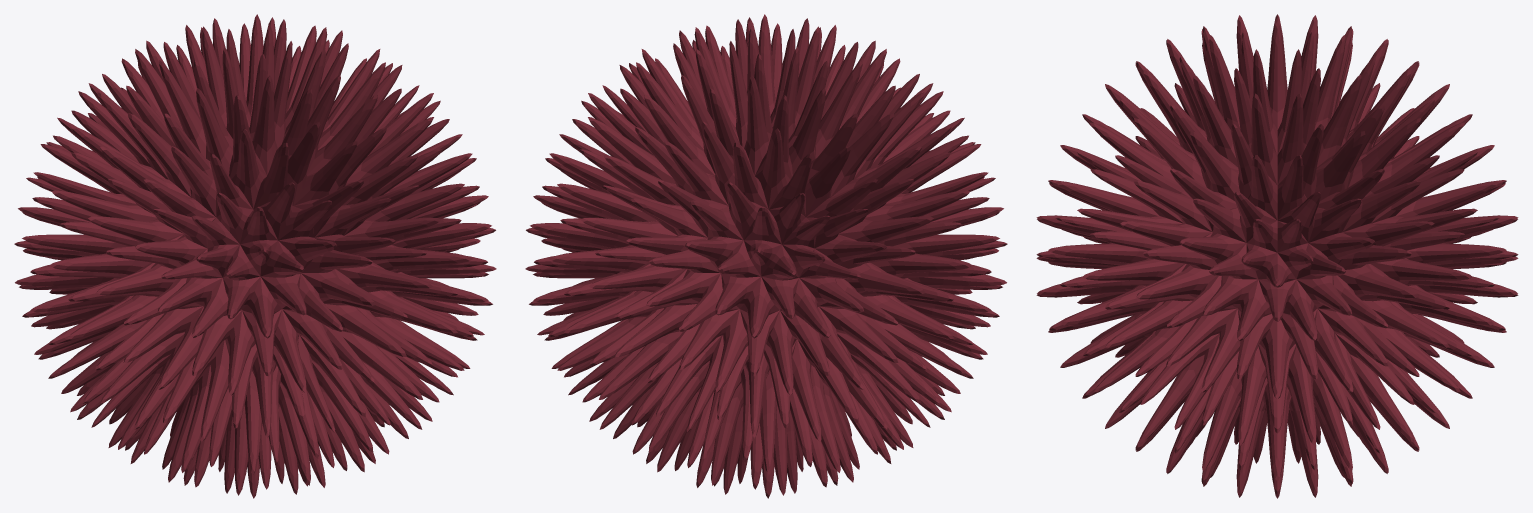
Rendered from Spikey thing.fbx.
3 views of the same model, side by side, from view 1: azimuth 30°, elevation 25°; view 2: azimuth 150°, elevation 25°; view 3: azimuth 270°, elevation 25° (orthographic).
Parts seen in each view (by area): view 1: Icosphere; view 2: Icosphere; view 3: Icosphere.
Boxes of the visible parts, box(x1,y1,x2,y2) form: Icosphere: box(14, 14, 496, 498); Icosphere: box(525, 14, 1007, 498); Icosphere: box(1036, 14, 1518, 498).
Bounding box in the file's own units: 471 × 473 × 470.
